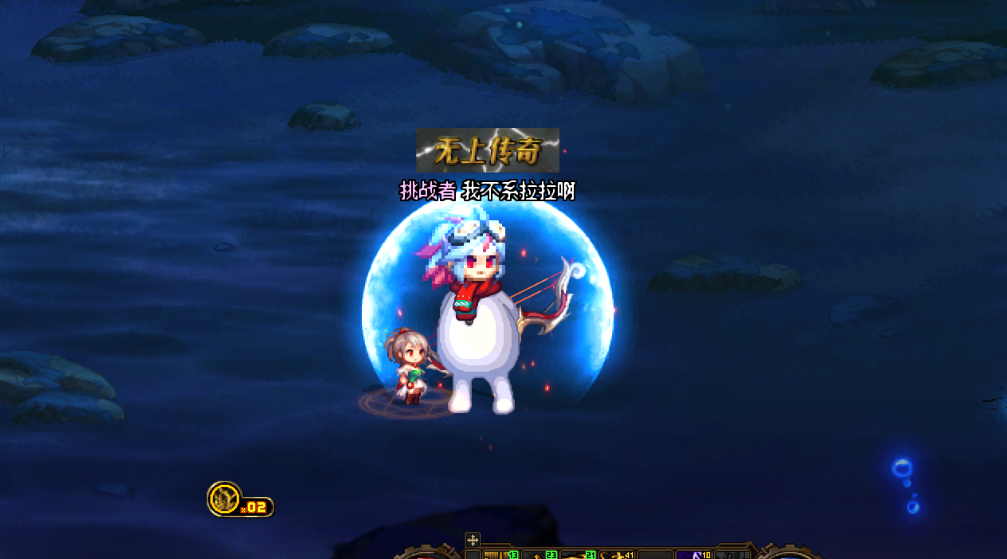role: (413, 129, 563, 173)
